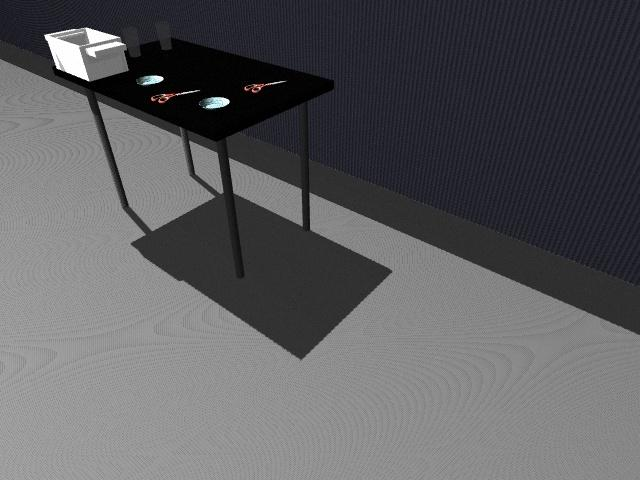cup: (121, 26, 141, 57), (154, 21, 172, 50)
plate: (199, 96, 229, 109), (135, 75, 164, 86)
scissors: (151, 90, 203, 105), (245, 80, 286, 93)
